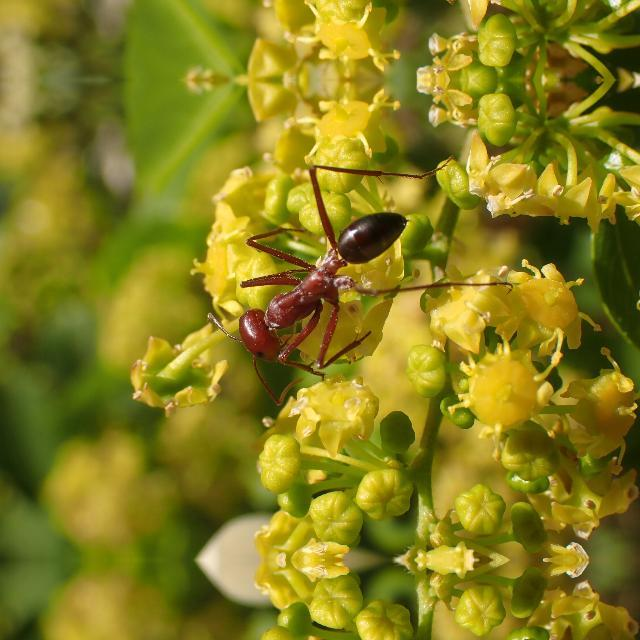Cataglyphis: (192, 185, 428, 379)
